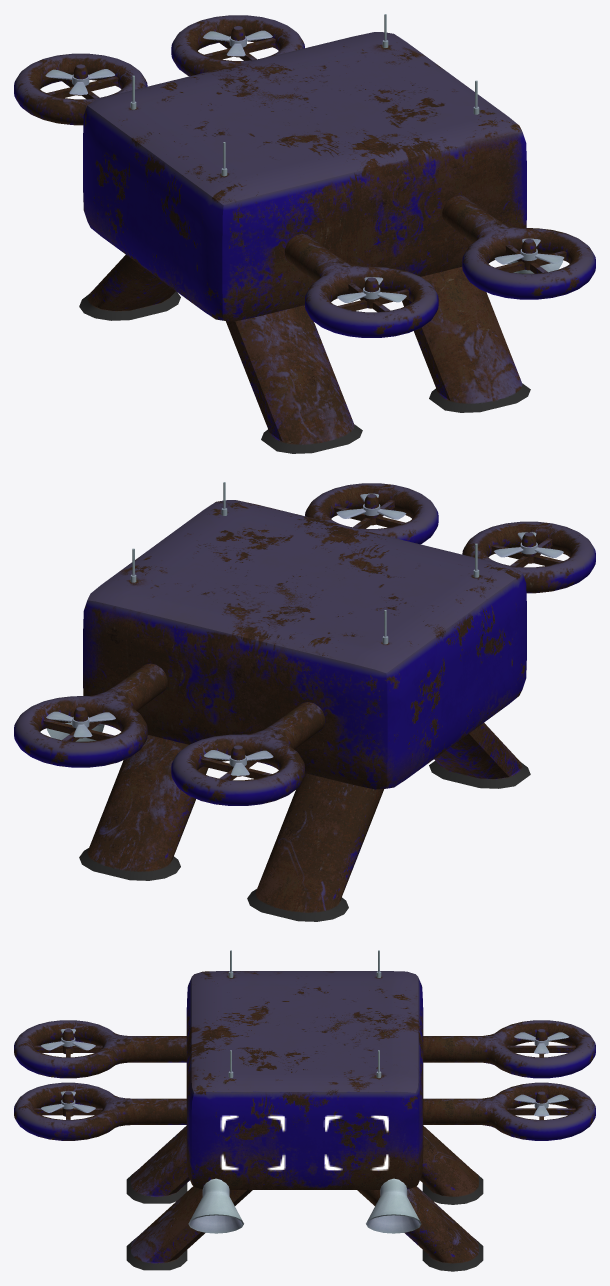
File: search drone.fbx
The picture shows the model from 3 angles, top to bottom: view 1: azimuth 30°, elevation 25°; view 2: azimuth 150°, elevation 25°; view 3: azimuth 270°, elevation 25°; orthographic projection. The views are drawn at different scales.
Parts seen in each view (by area): view 1: search drone corpus_low, engine_low|search drone engine base_low|Dupli|, engine_low.001|search drone engine base_low|Dupli|, engine_low.003|search drone engine base_low|Dupli|, engine_low.002|search drone engine base_low|Dupli|, engine_low.001|search drone engine propeller base_low|Dupli|, engine_low|search drone engine propeller base_low|Dupli|1, engine_low.003|search drone engine propeller base_low|Dupli|, engine_low.002|search drone engine propeller base_low|Dupli|, engine_low.002|search drone engine propeller_low|Dupli|2, engine_low.003|search drone engine propeller_low|Dupli|2, engine_low|search drone engine propeller_low|Dupli|2 (+1 smaller); view 2: search drone corpus_low, engine_low.002|search drone engine base_low|Dupli|, engine_low.003|search drone engine base_low|Dupli|, engine_low.001|search drone engine base_low|Dupli|, engine_low|search drone engine base_low|Dupli|, engine_low.001|search drone engine propeller base_low|Dupli|, engine_low|search drone engine propeller base_low|Dupli|1, engine_low.002|search drone engine propeller base_low|Dupli|, engine_low.003|search drone engine propeller base_low|Dupli|, engine_low.002|search drone engine propeller_low|Dupli|2, engine_low.003|search drone engine propeller_low|Dupli|2, engine_low.001|search drone engine propeller_low|Dupli|2 (+1 smaller); view 3: search drone corpus_low, engine_low|search drone engine base_low|Dupli|, engine_low.001|search drone engine base_low|Dupli|, engine_low.003|search drone engine base_low|Dupli|, engine_low.002|search drone engine base_low|Dupli|, spotlight_low.001|spotlight_low|Dupli|, spotlight_low.002|spotlight_low|Dupli|, engine_low.003|search drone engine propeller base_low|Dupli|, engine_low.002|search drone engine propeller base_low|Dupli|, engine_low|search drone engine propeller base_low|Dupli|1, engine_low.001|search drone engine propeller base_low|Dupli|, engine_low.002|search drone engine propeller_low|Dupli|2 (+1 smaller).
Boxes of the visible parts, box(x1,y1,x2,y2) form: search drone corpus_low: box(79, 32, 530, 453); engine_low|search drone engine base_low|Dupli|: box(442, 195, 595, 299); engine_low.001|search drone engine base_low|Dupli|: box(284, 234, 438, 337); engine_low.003|search drone engine base_low|Dupli|: box(14, 53, 147, 125); engine_low.002|search drone engine base_low|Dupli|: box(171, 15, 304, 76); engine_low.001|search drone engine propeller base_low|Dupli|: box(338, 277, 409, 312); engine_low|search drone engine propeller base_low|Dupli|1: box(495, 239, 566, 273); engine_low.003|search drone engine propeller base_low|Dupli|: box(47, 64, 118, 99); engine_low.002|search drone engine propeller base_low|Dupli|: box(204, 26, 275, 60); engine_low.002|search drone engine propeller_low|Dupli|2: box(203, 30, 272, 56); engine_low.003|search drone engine propeller_low|Dupli|2: box(45, 69, 114, 94); engine_low|search drone engine propeller_low|Dupli|2: box(494, 238, 564, 264); search drone corpus_low: box(79, 500, 530, 921); engine_low.002|search drone engine base_low|Dupli|: box(14, 663, 167, 767); engine_low.003|search drone engine base_low|Dupli|: box(171, 702, 325, 805); engine_low.001|search drone engine base_low|Dupli|: box(462, 521, 595, 593); engine_low|search drone engine base_low|Dupli|: box(305, 483, 438, 544); engine_low.001|search drone engine propeller base_low|Dupli|: box(491, 532, 562, 567); engine_low|search drone engine propeller base_low|Dupli|1: box(334, 494, 405, 528); engine_low.002|search drone engine propeller base_low|Dupli|: box(43, 707, 114, 741); engine_low.003|search drone engine propeller base_low|Dupli|: box(200, 745, 271, 780); engine_low.002|search drone engine propeller_low|Dupli|2: box(46, 711, 115, 737); engine_low.003|search drone engine propeller_low|Dupli|2: box(204, 750, 273, 775); engine_low.001|search drone engine propeller_low|Dupli|2: box(494, 532, 563, 557); search drone corpus_low: box(126, 971, 483, 1271); engine_low|search drone engine base_low|Dupli|: box(14, 1082, 186, 1140); engine_low.001|search drone engine base_low|Dupli|: box(14, 1020, 186, 1078); engine_low.003|search drone engine base_low|Dupli|: box(423, 1020, 595, 1078); engine_low.002|search drone engine base_low|Dupli|: box(423, 1082, 595, 1140); spotlight_low.001|spotlight_low|Dupli|: box(188, 1178, 243, 1233); spotlight_low.002|spotlight_low|Dupli|: box(366, 1178, 421, 1233); engine_low.003|search drone engine propeller base_low|Dupli|: box(507, 1029, 575, 1057); engine_low.002|search drone engine propeller base_low|Dupli|: box(507, 1091, 575, 1119); engine_low|search drone engine propeller base_low|Dupli|1: box(34, 1091, 102, 1119); engine_low.001|search drone engine propeller base_low|Dupli|: box(34, 1029, 102, 1057); engine_low.002|search drone engine propeller_low|Dupli|2: box(514, 1094, 568, 1116).
Bounding box in the file's own units: 984 × 568 × 409.
